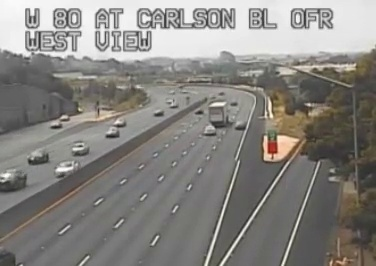car: (203, 125, 215, 135)
truck: (208, 102, 228, 125)
